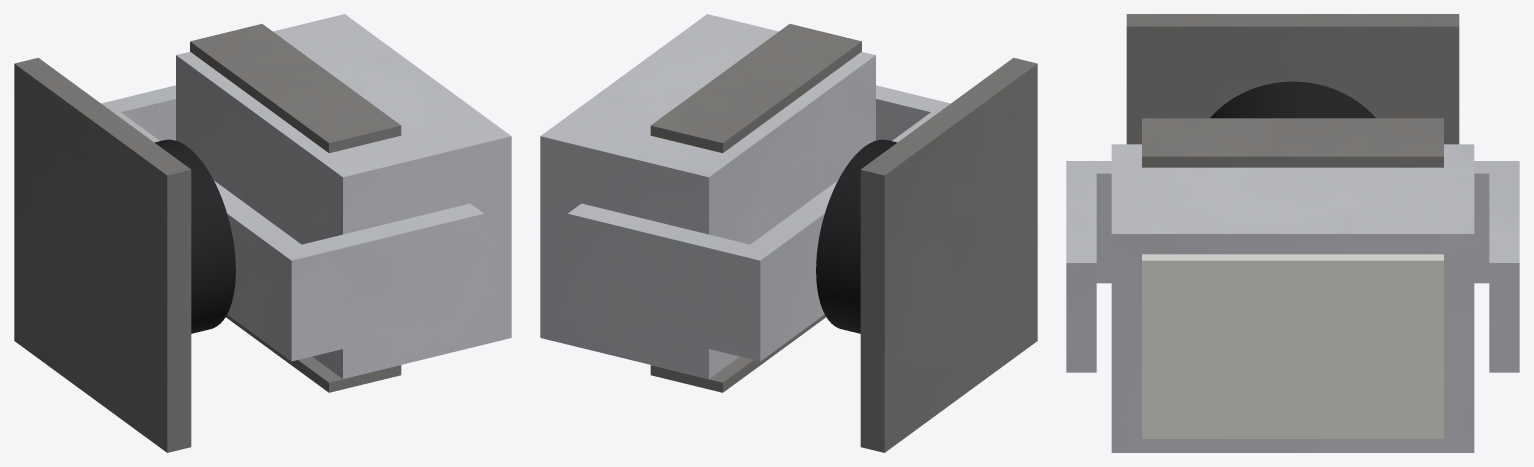
Rendered from power09_floodlight.glb.
3 views of the same model, side by side, from view 1: azimuth 30°, elevation 25°; view 2: azimuth 150°, elevation 25°; view 3: azimuth 270°, elevation 25° (orthographic). The views are drawn at different scales.
Visible parts, largest first — view 1: mount_plate, lamp_head, yoke, heat_fins, turntable; view 2: mount_plate, lamp_head, yoke, heat_fins, turntable; view 3: led_array, lamp_head, mount_plate, yoke, heat_fins, turntable.
Part boxes in pixels (x1,y1,x2,y2): mount_plate: [14, 57, 191, 452]; lamp_head: [176, 14, 511, 378]; yoke: [101, 85, 484, 361]; heat_fins: [190, 24, 401, 392]; turntable: [154, 139, 235, 333]; mount_plate: [860, 57, 1037, 452]; lamp_head: [540, 14, 875, 378]; yoke: [567, 85, 950, 361]; heat_fins: [650, 24, 861, 392]; turntable: [816, 139, 897, 333]; led_array: [1142, 254, 1443, 438]; lamp_head: [1111, 144, 1474, 452]; mount_plate: [1126, 14, 1459, 144]; yoke: [1066, 161, 1519, 372]; heat_fins: [1142, 118, 1443, 167]; turntable: [1210, 81, 1375, 118].
Bounding box in the file's own units: 0.29 × 0.22 × 0.3.
4 materials, 2 textured.
